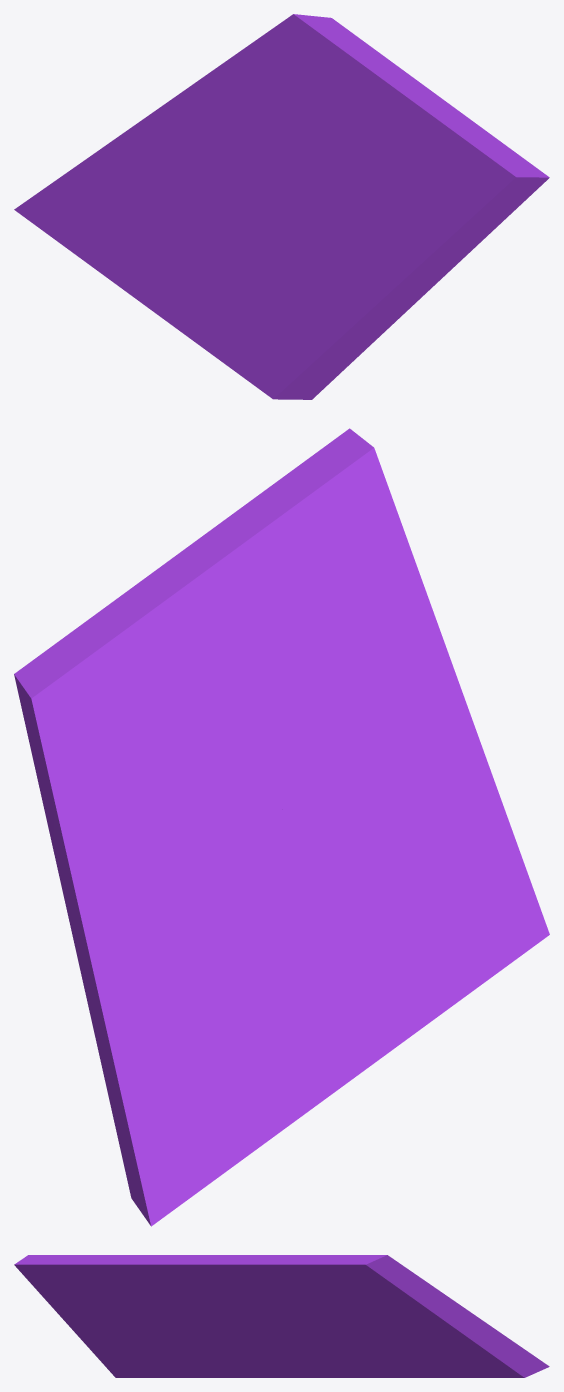
The model's file is Window_117_chunks.fbx.
3 renders of one model, top to bottom at view 1: azimuth 30°, elevation 25°; view 2: azimuth 150°, elevation 25°; view 3: azimuth 270°, elevation 25°, orthographic. The views are drawn at different scales.
Parts seen in each view (by area): view 1: Window_117_2, Window_117_0, Window_117_1, Window_117_3; view 2: Window_117_0, Window_117_2, Window_117_1, Window_117_3; view 3: Window_117_2, Window_117_0, Window_117_3, Window_117_1.
Part boxes in pixels (x1=…): Window_117_2: x1=282, y1=77, x2=549, y2=344; Window_117_0: x1=14, y1=50, x2=292, y2=308; Window_117_1: x1=149, y1=208, x2=370, y2=399; Window_117_3: x1=241, y1=14, x2=417, y2=176; Window_117_0: x1=53, y1=785, x2=358, y2=1226; Window_117_2: x1=147, y1=428, x2=502, y2=818; Window_117_1: x1=292, y1=803, x2=549, y2=1074; Window_117_3: x1=14, y1=577, x2=254, y2=854; Window_117_2: x1=14, y1=1255, x2=253, y2=1349; Window_117_0: x1=280, y1=1276, x2=549, y2=1377; Window_117_3: x1=227, y1=1255, x2=420, y2=1328; Window_117_1: x1=91, y1=1323, x2=344, y2=1377.
Bounding box in the file's own units: 720 × 763 × 2038.
